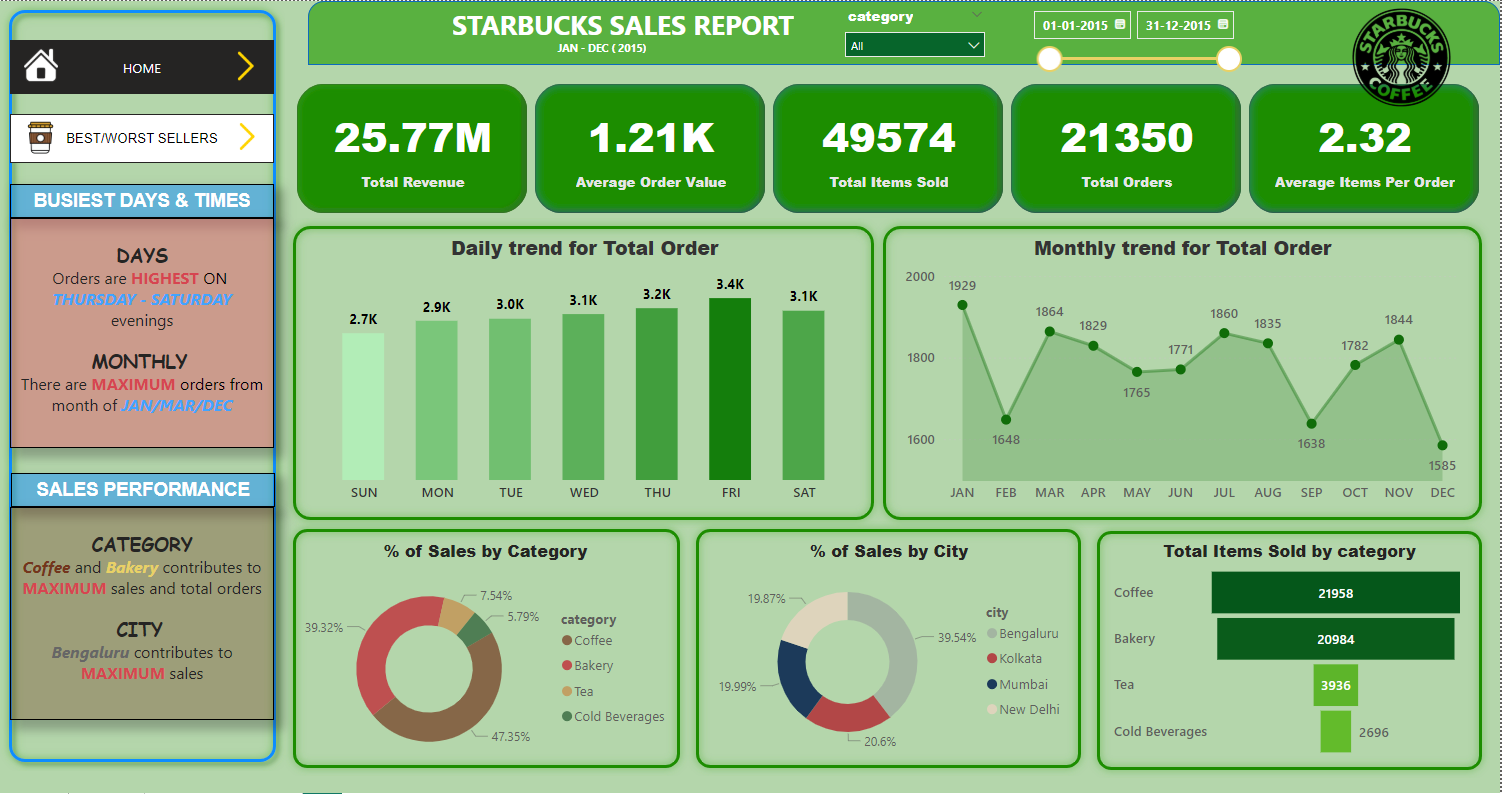

Layout of this report page (visuals, bound fields, positions):
{"tool":"powerbi","page":{"name":"HOME","canvas":[1500,820],"ordinal":0},"visuals":[{"type":"cardVisual","fields":{"Data":["starbucks.Total Revenue","starbucks.Average Order Value","starbucks.Total Items Sold","starbucks.Total Orders","starbucks.Average Items Per Order"]},"box":[292,78,1192,139],"z":0},{"type":"shape","box":[308,0,1192,64],"z":1000},{"type":"textbox","box":[420,0,406,48],"z":2000},{"type":"textbox","box":[549,32,109,28],"z":3000},{"type":"shape","box":[285,217,597,310],"z":4000},{"type":"columnChart","title":"Daily trend for Total Order","fields":{"Category":["starbucks.Order Day"],"Y":["starbucks.Total Orders"]},"box":[308,233,553,277],"z":5000},{"type":"shape","box":[875,217,615,310],"z":6000},{"type":"areaChart","title":"Monthly trend for Total Order","fields":{"Y":["starbucks.Total Orders"],"Category":["starbucks.Order Month"]},"box":[900,233,565,277],"z":7000},{"type":"shape","box":[285,520,403,255],"z":8000},{"type":"donutChart","title":"% of Sales by Category","fields":{"Category":["starbucks.category"],"Y":["starbucks.Total Revenue"]},"box":[292,538,387,237],"z":9000},{"type":"shape","box":[688,520,401,255],"z":10000},{"type":"donutChart","title":"% of Sales by City","fields":{"Category":["starbucks.city"],"Y":["starbucks.Total Orders"]},"box":[704,538,370,223],"z":11000},{"type":"shape","box":[1089,522,401,255],"z":12000},{"type":"funnel","fields":{"Category":["starbucks.category"],"Y":["starbucks.Total Items Sold"]},"box":[1109,538,361,223],"z":13000},{"type":"shape","box":[0,0,285,770],"z":14000},{"type":"textbox","box":[10,183,264,34],"z":15000},{"type":"textbox","box":[10,217,264,230],"z":16000},{"type":"textbox","box":[11,472,264,34],"z":17000},{"type":"textbox","box":[10,506,264,213],"z":18000},{"type":"slicer","title":"Pizza","fields":{"Values":["starbucks.category"]},"box":[835,0,160,64],"z":19000},{"type":"slicer","title":"Pizza","fields":{"Values":["starbucks.order_date"]},"box":[1021,0,229,78],"z":20000},{"type":"pageNavigator","box":[10,39,264,54],"z":21000},{"type":"pageNavigator","box":[10,113,264,49],"z":22000},{"type":"image","box":[214,37,61,56],"z":23000},{"type":"image","box":[218,109,57,53],"z":24000},{"type":"image","box":[1338,0,127,113],"z":25000},{"type":"image","box":[19,38,44,52],"z":25001},{"type":"image","box":[19,109,43,54],"z":25002}]}

Visuals, with their boxes in screenshot pixels (x1, y1, x2, y2):
cardVisual - starbucks.Total Revenue x starbucks.Average Order Value: 289, 77, 1469, 215
shape: 305, 0, 1485, 63
textbox: 416, 0, 818, 48
textbox: 544, 32, 651, 59
shape: 282, 215, 873, 522
"Daily trend for Total Order" columnChart: 305, 231, 852, 505
shape: 866, 215, 1475, 522
"Monthly trend for Total Order" areaChart: 891, 231, 1450, 505
shape: 282, 515, 681, 767
"% of Sales by Category" donutChart: 289, 533, 672, 767
shape: 681, 515, 1078, 767
"% of Sales by City" donutChart: 697, 533, 1063, 753
shape: 1078, 517, 1475, 769
funnel - starbucks.category x starbucks.Total Items Sold: 1098, 533, 1455, 753
shape: 0, 0, 282, 762
textbox: 10, 181, 271, 215
textbox: 10, 215, 271, 443
textbox: 11, 467, 272, 501
textbox: 10, 501, 271, 712
"Pizza" slicer: 827, 0, 985, 63
"Pizza" slicer: 1011, 0, 1238, 77
pageNavigator: 10, 39, 271, 92
pageNavigator: 10, 112, 271, 160
image: 212, 37, 272, 92
image: 216, 108, 272, 160
image: 1325, 0, 1450, 112
image: 19, 38, 62, 89
image: 19, 108, 61, 161
